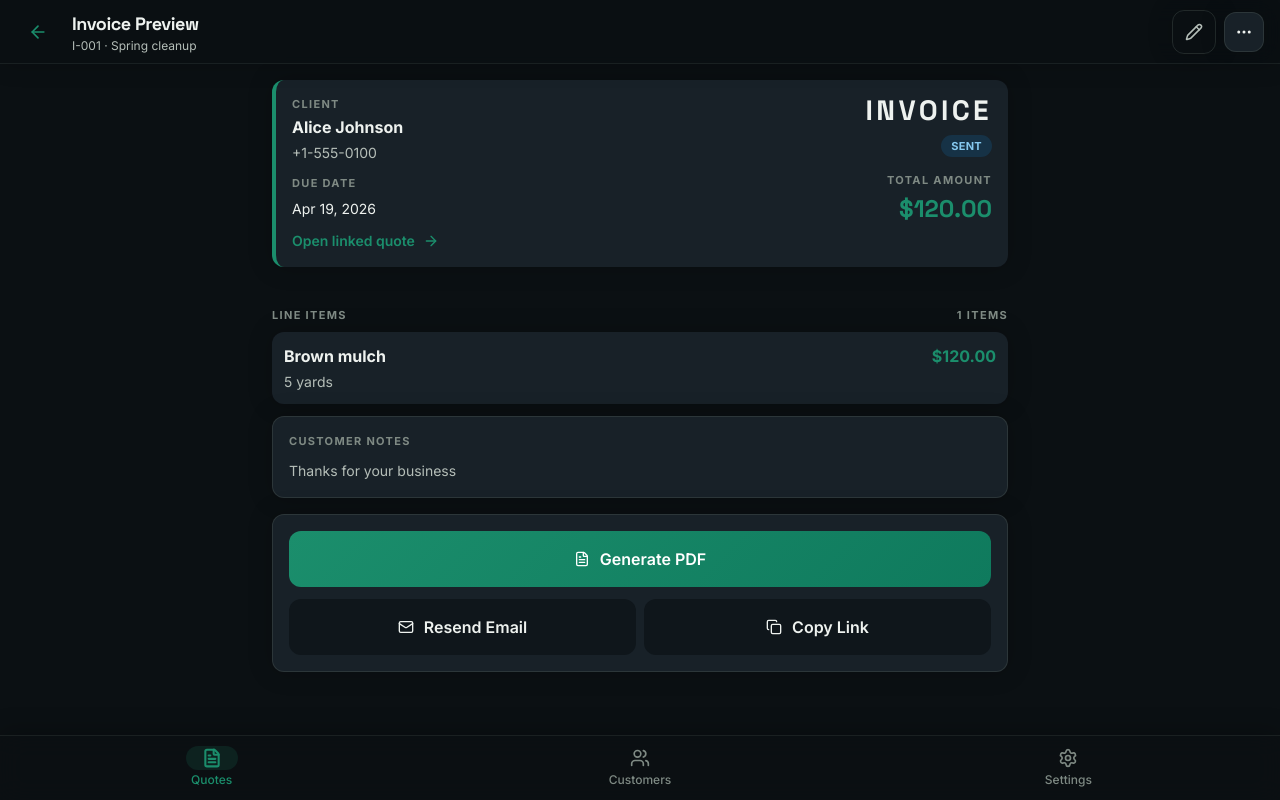
Test: InvoiceDetailScreen › marks a sent invoice as paid from overflow and updates visible state
The width and height of the screenshot is (1280, 800).
What coordinates should you click on to do the following:
click the button named "more actions"
I would click on:
 (1244, 32)
Its box is left=1224, top=12, right=1264, bottom=52.
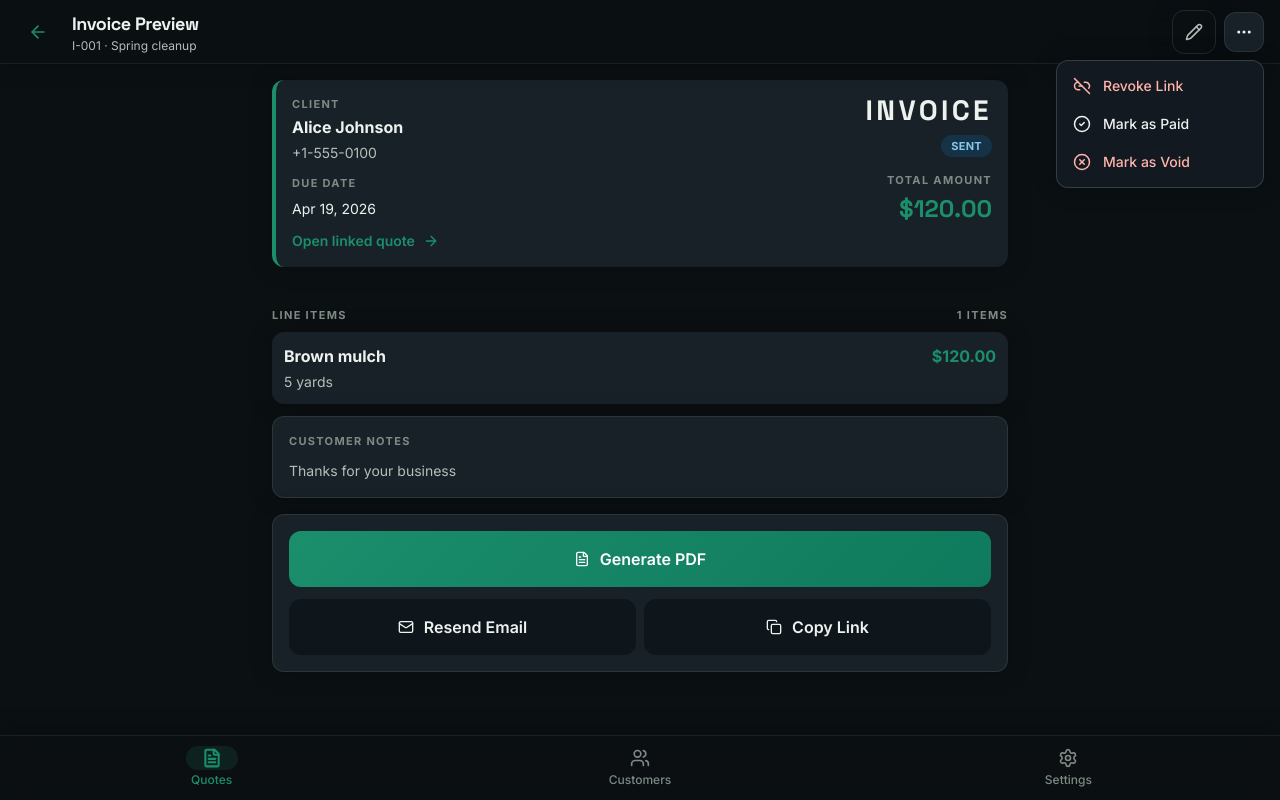
What coordinates should you click on to do the following:
click the menu item "Mark as Paid"
I would click on:
 (1160, 124)
Its box is left=1063, top=105, right=1257, bottom=143.
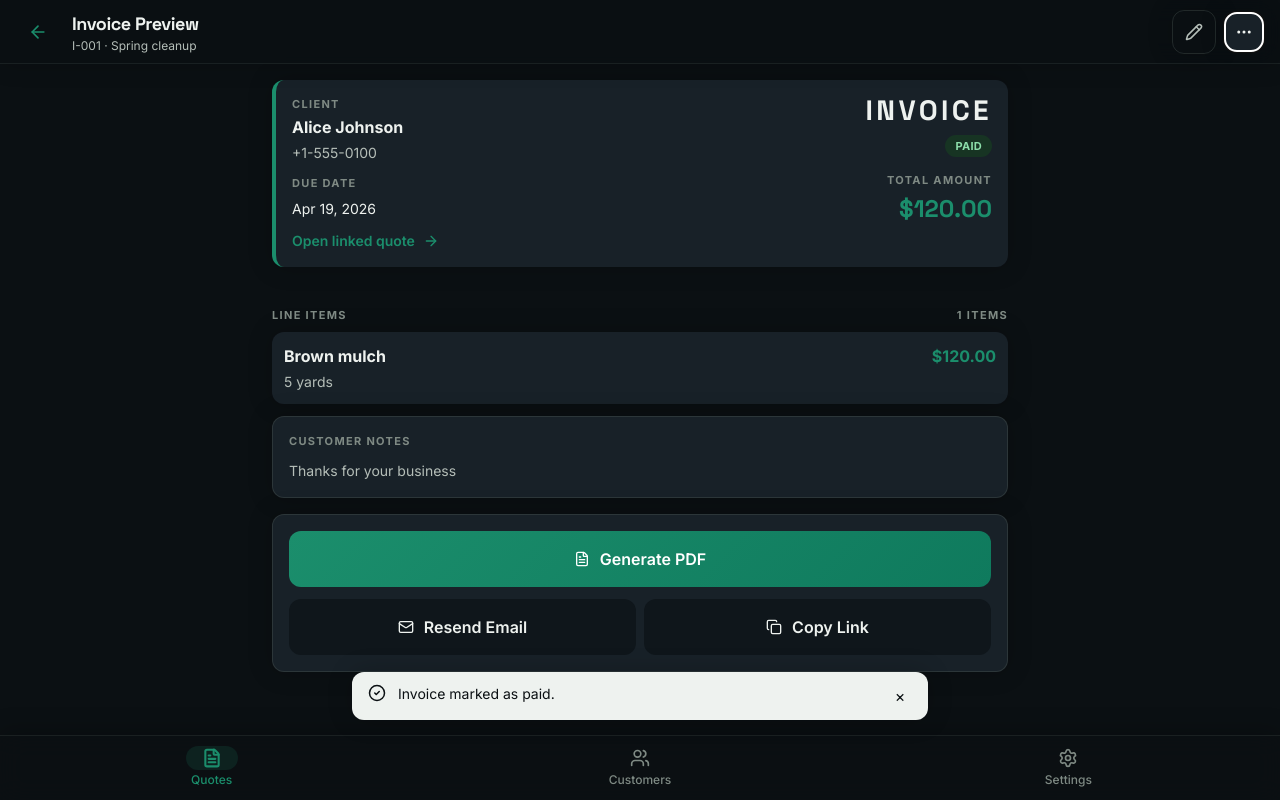
Result: the text "Invoice marked as paid." is shown at left=398, top=685, right=555, bottom=702
